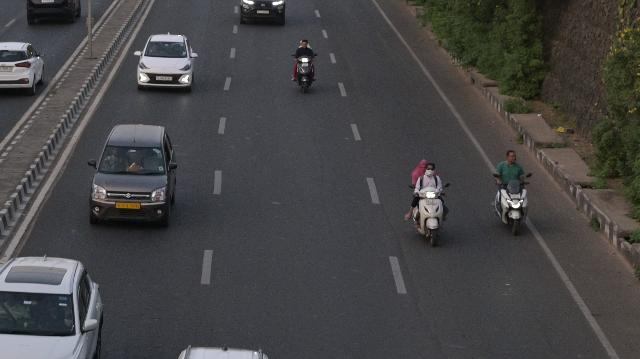Without Helmet: (504, 148, 518, 164), (418, 158, 426, 174), (300, 36, 310, 48), (426, 164, 436, 176)
